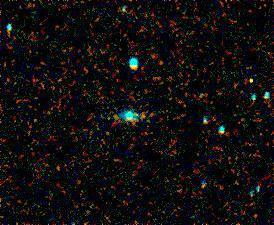star: (243, 71, 273, 101)
